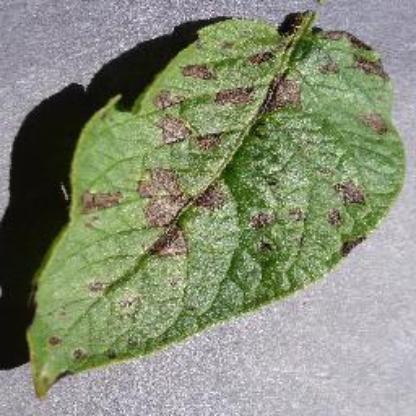Early-Blight: (25, 2, 416, 404)
